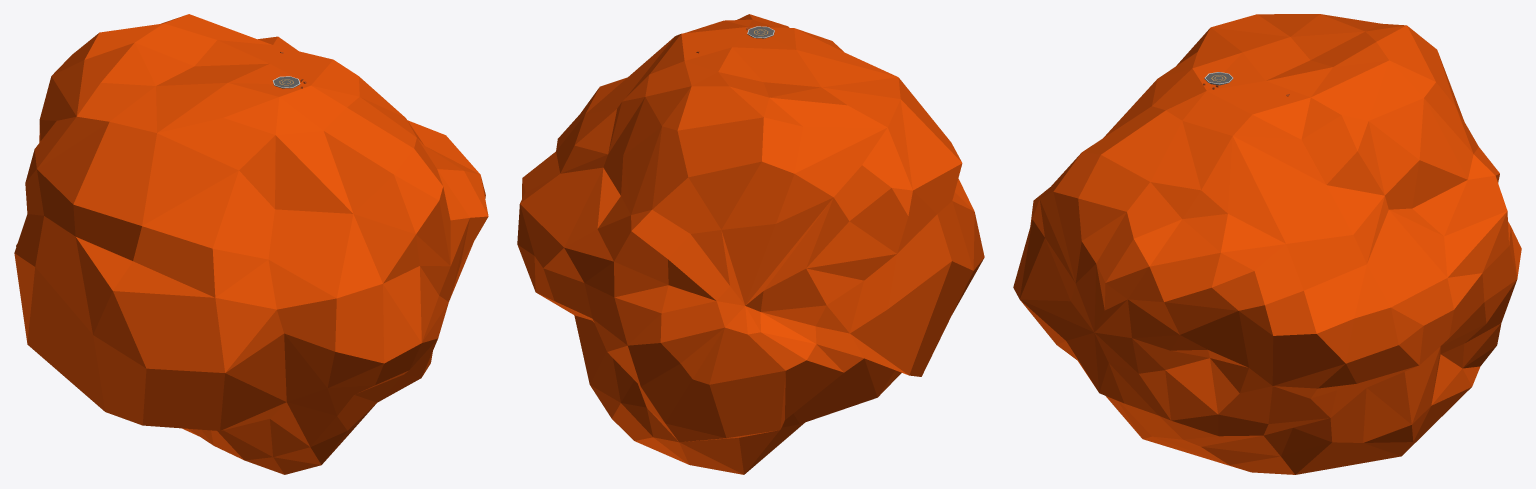
The model's file is Planet.glb.
3 views of the same model, side by side, from view 1: azimuth 30°, elevation 25°; view 2: azimuth 150°, elevation 25°; view 3: azimuth 270°, elevation 25° (orthographic). The views are drawn at different scales.
Parts seen in each view (by area): view 1: Sphere; view 2: Sphere; view 3: Sphere.
Part boxes in pixels (x1,y1,x2,y2): Sphere: (14, 14, 488, 474); Sphere: (517, 14, 984, 474); Sphere: (1013, 14, 1521, 474).
Bounding box in the file's own units: 40.27 × 37.04 × 42.16.
